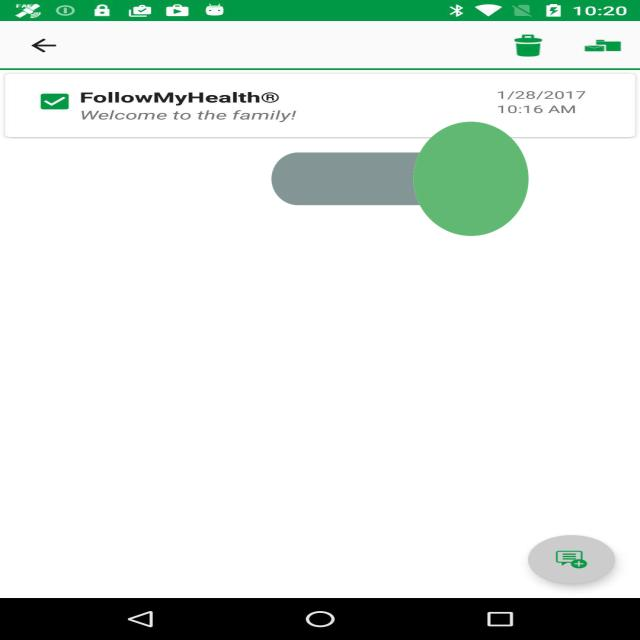social proof: (272, 51, 528, 306)
